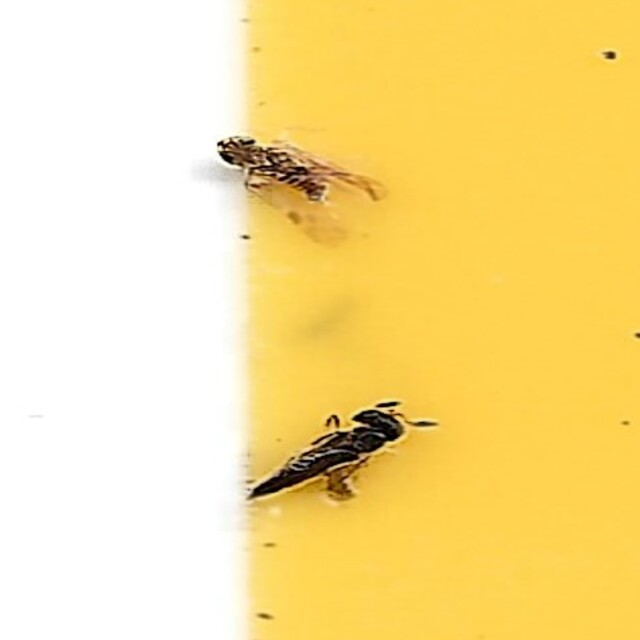Hemiptera: (203, 131, 382, 248)
Hymenoptera: (240, 397, 437, 509)
